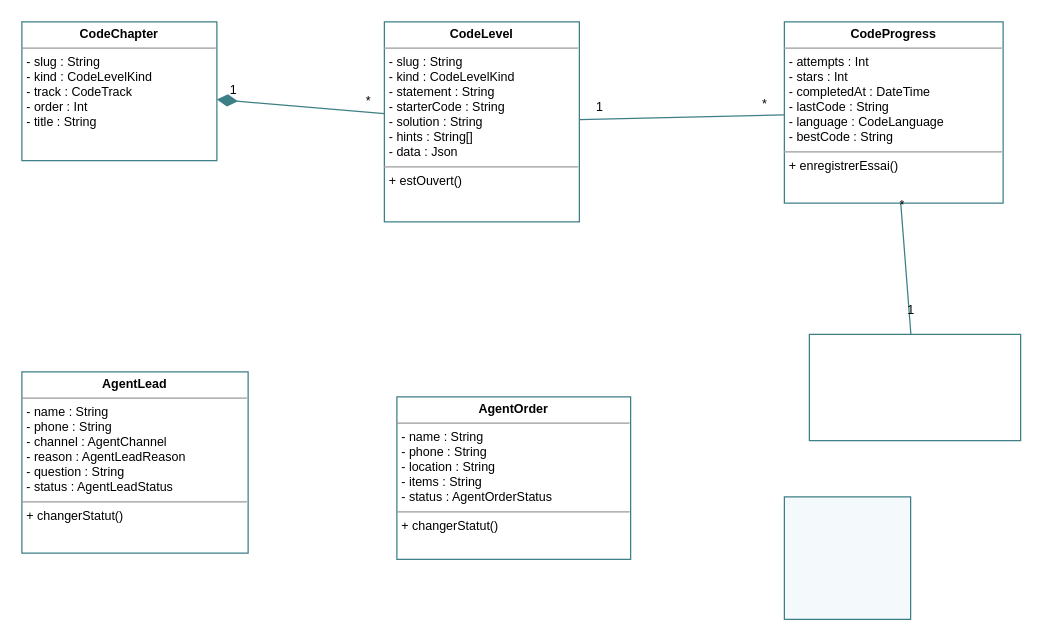
The diagram is 1043 pixels wide and 641 high, and some of its shapes have lost their labels. Here are the shapes that lost their labels. From the top down, the centre of each, then its label:
At point (914, 387): "Student - level : String - section : String + parcours() : CodeTrack".
At point (847, 557): "«enumeration» CodeTrack BASES TROIS_SI BAC_INFO BAC_ECO".
